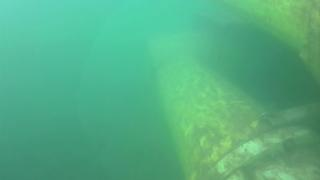pipe: (151, 41, 320, 180), (223, 1, 320, 88)
